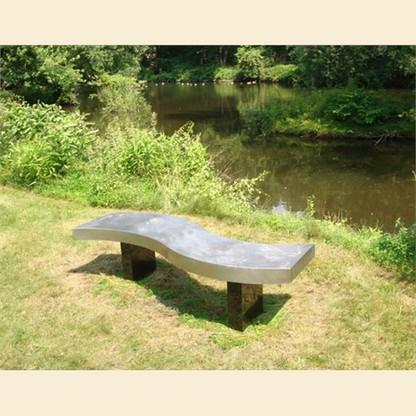obstacle: (57, 199, 329, 338)
